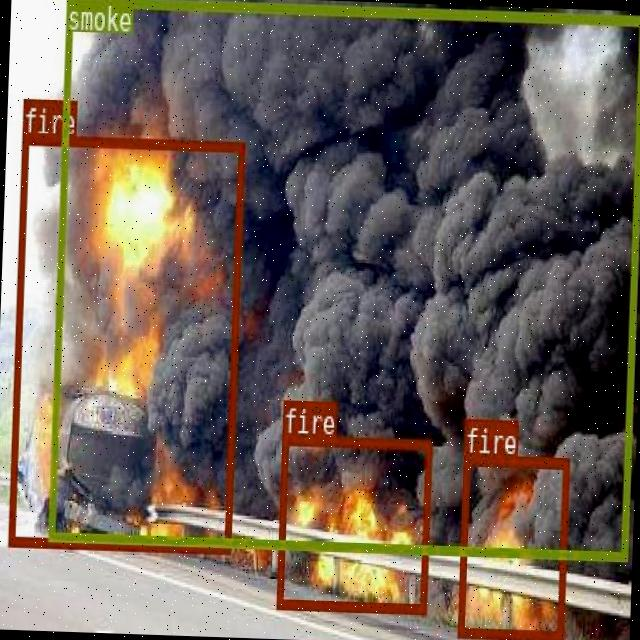fire: (8, 133, 242, 550), (274, 432, 430, 612), (456, 454, 568, 640)
smoke: (46, 0, 640, 558)
